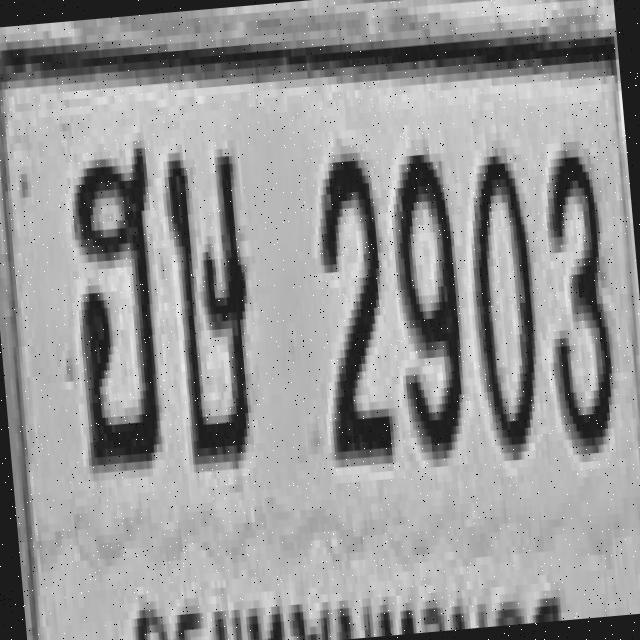0: (460, 142, 547, 458)
2: (306, 143, 396, 460)
3: (536, 140, 620, 456)
48SorRueSi: (160, 144, 262, 468)
53HorNokHook: (61, 140, 172, 473)
9: (384, 144, 471, 460)
